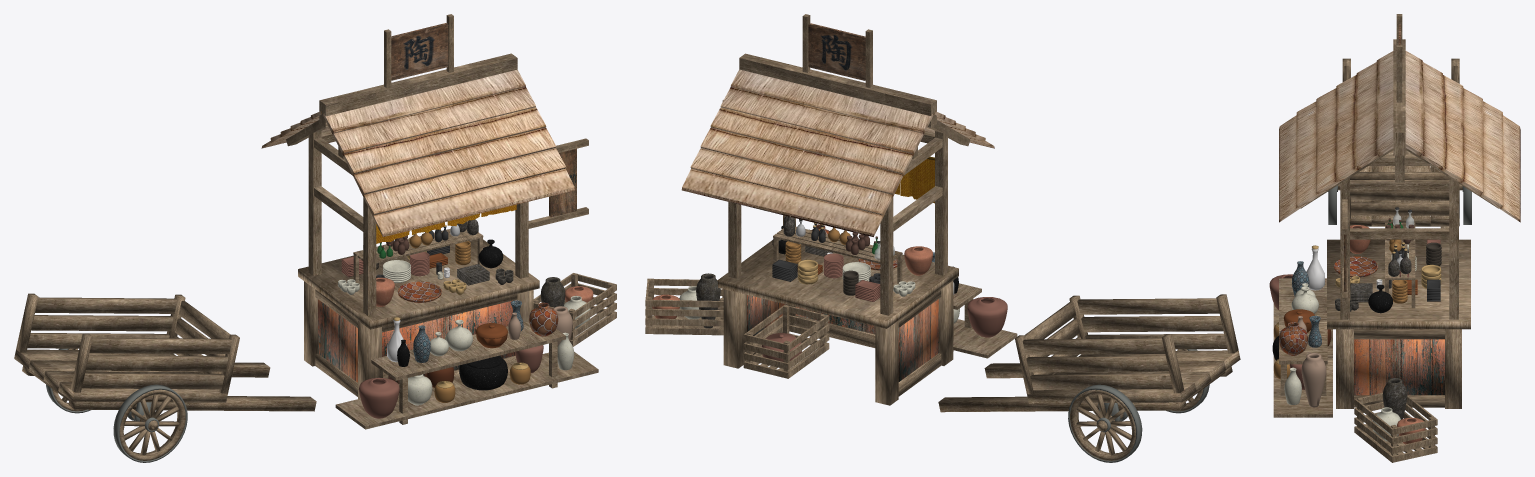
File: 静物_其它_Modular Japanese Ceramic Shop & Cart_opt.glb
The picture shows the model from 3 angles, left to right: view 1: azimuth 30°, elevation 25°; view 2: azimuth 150°, elevation 25°; view 3: azimuth 270°, elevation 25°; orthographic projection.
Visible parts, largest first — view 1: Shelf_Wood_Low_Old_wood007_0, Posts_and_roof_Straw_0, Jar_Brown_Round_Brown_1_0, Base_Wood_Peeling_Paint_0, Vase_White_2_Japanese_Ceramic_0, Sign_Japan_Ceramics_Sign_Jap_0, Vase_Black_Round_M_Brown_shiny_ceramic_0, Bottle_Grey_Tall_1_Metal_Worn_Gray_0, Plate_Red_Mosaic_Ceramic_tile_fishscale_orange_0, Sign_Ceramics_Sign_0, Vase_Orange_2_Clay_0, Curtain_Noren_Yellow_fabric_0 (+1 smaller); view 2: Shelf_Wood_Low_Old_wood007_0, Posts_and_roof_Straw_0, Jar_Brown_Round_Brown_1_0, Base_Wood_Peeling_Paint_0, Sign_Japan_Ceramics_Sign_Jap_0, Bottle_Grey_Tall_1_Metal_Worn_Gray_0, Curtain_Noren_Yellow_fabric_0, Vase_White_2_Japanese_Ceramic_0, Vase_Orange_2_Clay_0; view 3: Shelf_Wood_Low_Old_wood007_0, Posts_and_roof_Straw_0, Jar_Brown_Round_Brown_1_0, Base_Wood_Peeling_Paint_0, Bottle_Grey_Tall_1_Metal_Worn_Gray_0, Vase_White_2_Japanese_Ceramic_0, Plate_Red_Mosaic_Ceramic_tile_fishscale_orange_0, Vase_Blue_Mosaic_Ceramic_tile_fishscale_001_var1_0, Vase_Orange_2_Clay_0, Vase_Black_Round_M_Brown_shiny_ceramic_0.
Boxes of the visible parts, x1,y1,x2,y2 form: Shelf_Wood_Low_Old_wood007_0: (14, 14, 616, 460); Posts_and_roof_Straw_0: (261, 69, 574, 236); Jar_Brown_Round_Brown_1_0: (46, 224, 572, 462); Base_Wood_Peeling_Paint_0: (318, 299, 515, 384); Vase_White_2_Japanese_Ceramic_0: (338, 260, 590, 405); Sign_Japan_Ceramics_Sign_Jap_0: (391, 23, 448, 80); Vase_Black_Round_M_Brown_shiny_ceramic_0: (397, 239, 507, 390); Bottle_Grey_Tall_1_Metal_Worn_Gray_0: (376, 219, 565, 307); Plate_Red_Mosaic_Ceramic_tile_fishscale_orange_0: (397, 281, 558, 336); Sign_Ceramics_Sign_0: (549, 148, 576, 217); Vase_Orange_2_Clay_0: (376, 277, 593, 306); Curtain_Noren_Yellow_fabric_0: (376, 204, 516, 243); Shelf_Wood_Low_Old_wood007_0: (645, 14, 1240, 460); Posts_and_roof_Straw_0: (681, 69, 994, 236); Jar_Brown_Round_Brown_1_0: (761, 156, 1209, 462); Base_Wood_Peeling_Paint_0: (747, 295, 938, 381); Sign_Japan_Ceramics_Sign_Jap_0: (808, 23, 865, 80); Bottle_Grey_Tall_1_Metal_Worn_Gray_0: (696, 216, 858, 328); Curtain_Noren_Yellow_fabric_0: (895, 159, 934, 203); Vase_White_2_Japanese_Ceramic_0: (679, 262, 959, 323); Vase_Orange_2_Clay_0: (652, 246, 932, 318); Shelf_Wood_Low_Old_wood007_0: (1273, 14, 1498, 462); Posts_and_roof_Straw_0: (1279, 51, 1520, 222); Jar_Brown_Round_Brown_1_0: (1269, 185, 1471, 407); Base_Wood_Peeling_Paint_0: (1354, 339, 1444, 395); Bottle_Grey_Tall_1_Metal_Worn_Gray_0: (1335, 242, 1441, 419); Vase_White_2_Japanese_Ceramic_0: (1284, 244, 1416, 441); Plate_Red_Mosaic_Ceramic_tile_fishscale_orange_0: (1279, 256, 1377, 355); Vase_Blue_Mosaic_Ceramic_tile_fishscale_001_var1_0: (1292, 261, 1321, 347); Vase_Orange_2_Clay_0: (1350, 225, 1425, 444); Vase_Black_Round_M_Brown_shiny_ceramic_0: (1272, 284, 1392, 360).
Bounding box in the file's own units: 0.8765 × 0.5 × 0.3362.
14 materials, 14 textured.
